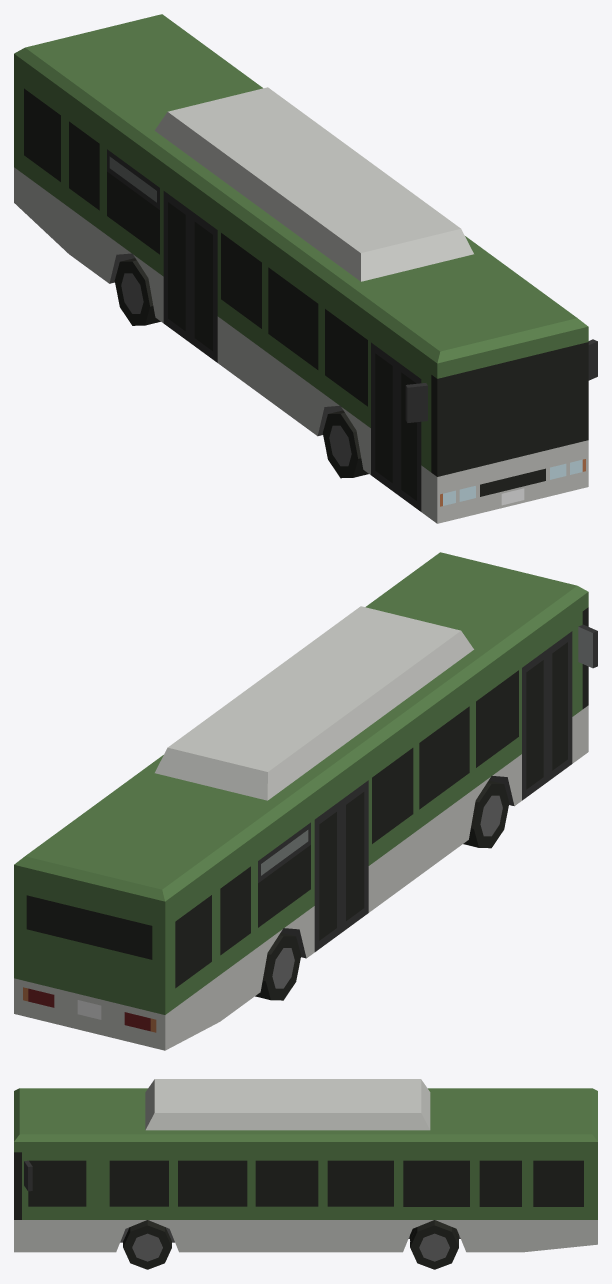
File: Veh_Bus_01_Green.obj
The picture shows the model from 3 angles, top to bottom: view 1: azimuth 30°, elevation 25°; view 2: azimuth 150°, elevation 25°; view 3: azimuth 270°, elevation 25°; orthographic projection. The views are drawn at different scales.
Bounding box in the file's own units: 1.7 × 1.83 × 6.53.
